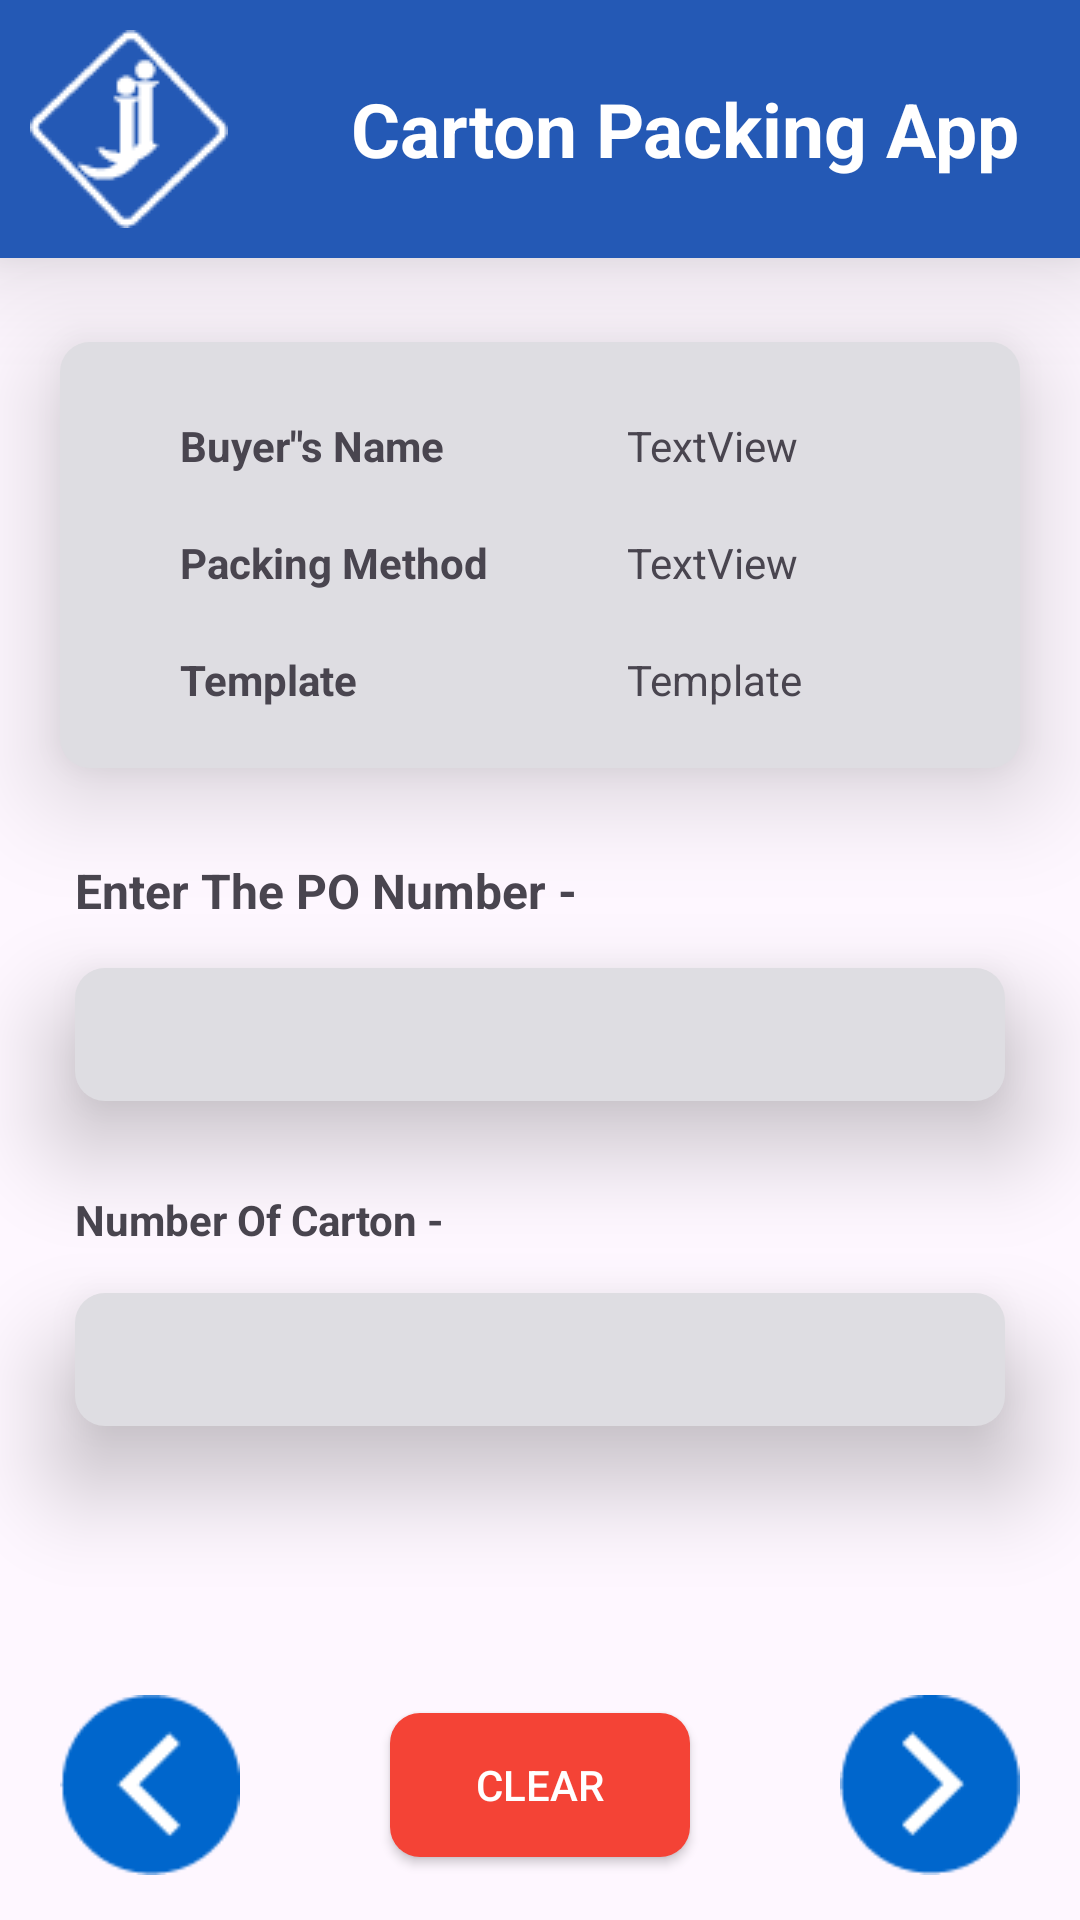

Where to tap for icons on this 1080×1920 app screen, as point (x, y):
back: point (150, 1785)
forward: point (930, 1785)
